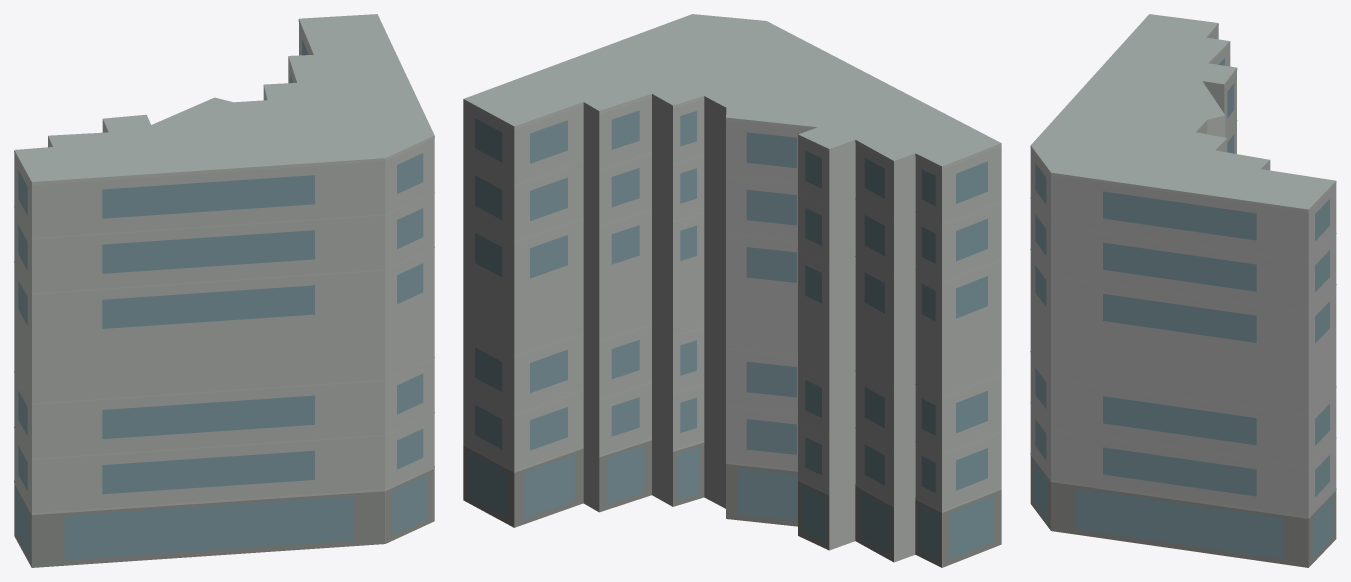
File: survey-upis-32893059.glb
The picture shows the model from 3 angles, left to right: view 1: azimuth 30°, elevation 25°; view 2: azimuth 150°, elevation 25°; view 3: azimuth 270°, elevation 25°; orthographic projection. The views are drawn at different scales.
Parts seen in each view (by area): view 1: survey-upis-32893059.tmp; view 2: survey-upis-32893059.tmp; view 3: survey-upis-32893059.tmp.
Part boxes in pixels (<box>): survey-upis-32893059.tmp: <box>14,14,434,567</box>; survey-upis-32893059.tmp: <box>463,14,1001,567</box>; survey-upis-32893059.tmp: <box>1030,14,1336,567</box>.
Size of the model in its own units: 33.61 by 28.7 by 22.21.
